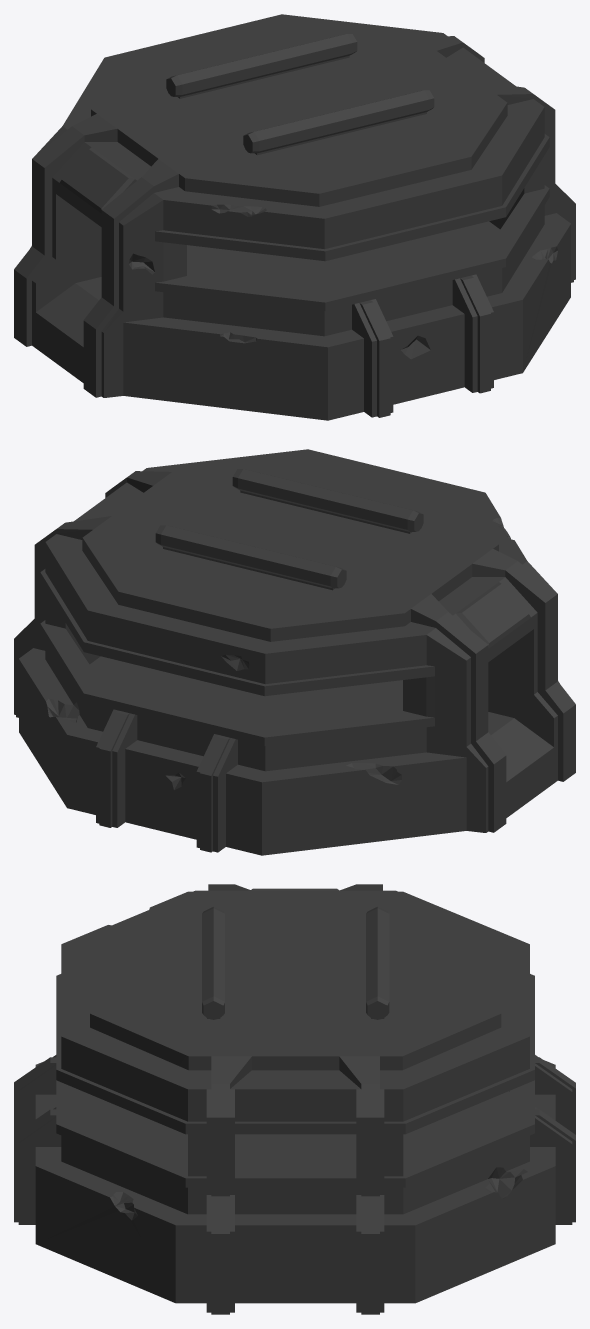
Rendered from bunker.glb.
3 views of the same model, one above another, from view 1: azimuth 30°, elevation 25°; view 2: azimuth 150°, elevation 25°; view 3: azimuth 270°, elevation 25° (orthographic). The views are drawn at different scales.
Visible parts, largest first — view 1: healthy_lod0_merged_material__bunker_6slot_01_relic_material; view 2: healthy_lod0_merged_material__bunker_6slot_01_relic_material; view 3: healthy_lod0_merged_material__bunker_6slot_01_relic_material.
Boxes of the visible parts, x1,y1,x2,y2 form: healthy_lod0_merged_material__bunker_6slot_01_relic_material: (14, 14, 575, 420); healthy_lod0_merged_material__bunker_6slot_01_relic_material: (14, 449, 575, 855); healthy_lod0_merged_material__bunker_6slot_01_relic_material: (14, 884, 575, 1314).
Bounding box in the file's own units: 1.35 × 0.6038 × 1.28.
1 material, 1 textured.
